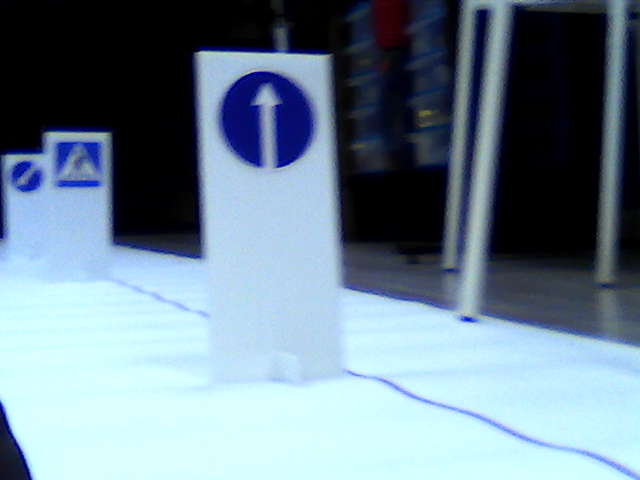forw: (219, 70, 321, 178)
pesh: (52, 139, 100, 187)
